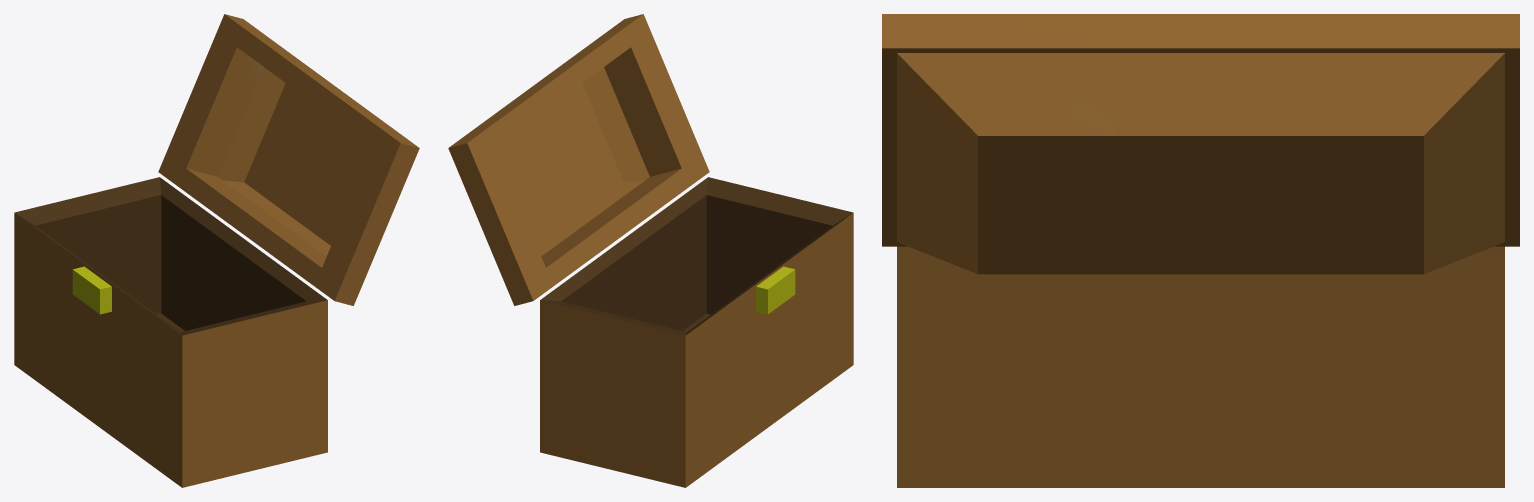
File: chest.glb
3 renders of one model, left to right at view 1: azimuth 30°, elevation 25°; view 2: azimuth 150°, elevation 25°; view 3: azimuth 270°, elevation 25°, orthographic. The views are drawn at different scales.
Parts seen in each view (by area): view 1: Cube.002, Cube.001; view 2: Cube.002, Cube.001; view 3: Cube.001, Cube.002.
Boxes of the visible parts, x1=… form: Cube.002: x1=14, y1=177, x2=327, y2=487; Cube.001: x1=158, y1=14, x2=419, y2=305; Cube.002: x1=540, y1=177, x2=853, y2=487; Cube.001: x1=448, y1=14, x2=709, y2=305; Cube.001: x1=882, y1=14, x2=1519, y2=274; Cube.002: x1=897, y1=246, x2=1504, y2=487.
Size of the model in its own units: 3.65 by 3.88 by 4.2.
Materials: 1 (1 with a texture image).
